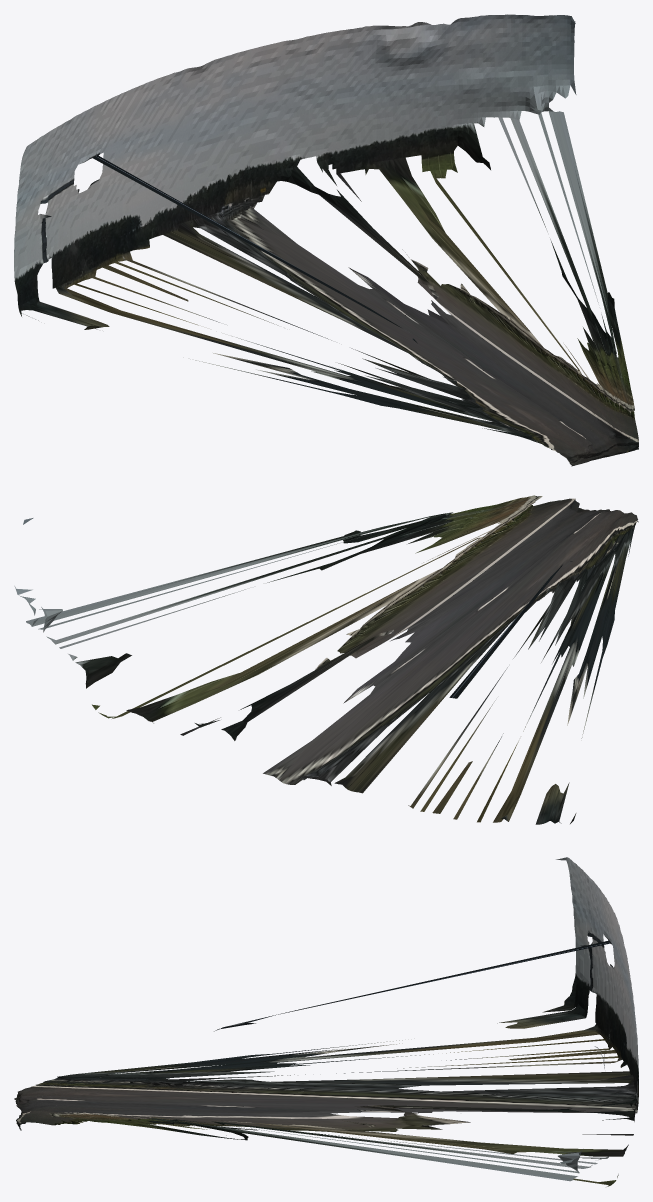
The picture shows the model from 3 angles, top to bottom: view 1: azimuth 30°, elevation 25°; view 2: azimuth 150°, elevation 25°; view 3: azimuth 270°, elevation 25°; orthographic projection. The views are drawn at different scales.
Visible parts, largest first — view 1: defaultobject; view 2: defaultobject; view 3: defaultobject.
Part boxes in pixels (x1,y1,x2,y2): defaultobject: (14, 14, 638, 466); defaultobject: (14, 495, 638, 824); defaultobject: (14, 857, 638, 1186).
Size of the model in its own units: 41.02 by 12.89 by 44.32.
1 material, 1 textured.
